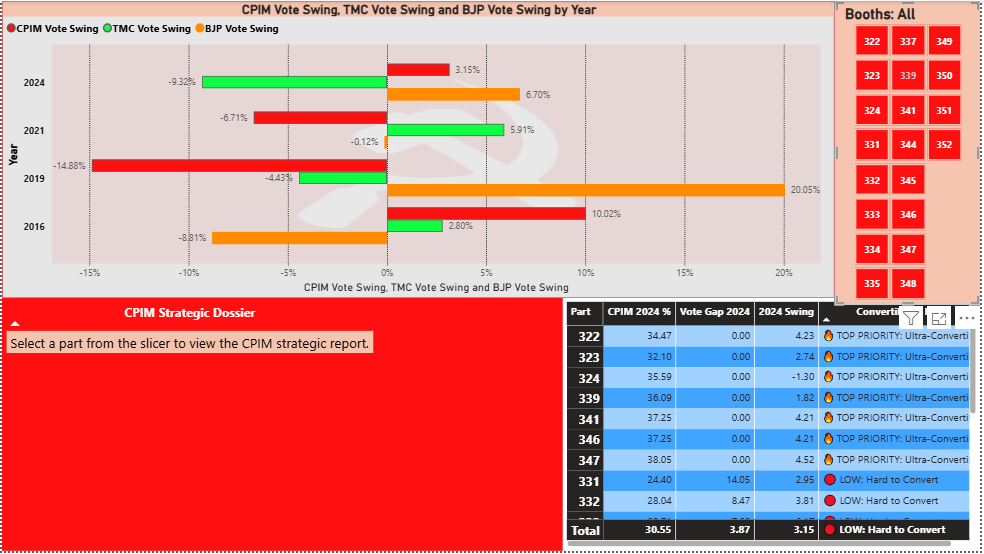

The page's visual inventory and layout, read from the dashboard file:
{"tool":"powerbi","page":{"name":"Page 2","canvas":[1280,720],"ordinal":1},"visuals":[{"type":"slicer","fields":{"Values":["Sheet1.Part"]},"box":[1090.5,0,189.8,398],"z":0},{"type":"clusteredBarChart","fields":{"Y":["Sheet1.CPIM Vote Swing","Sheet1.TMC Vote Swing","Sheet1.BJP Vote Swing"],"Category":["Sheet1.Year"]},"box":[0,0,1090.5,388.8],"z":1000},{"type":"tableEx","fields":{"Values":["Sheet1.CPIM Strategic Dossier"]},"box":[0,388.8,734.4,331.2],"z":2000},{"type":"pivotTable","fields":{"Values":["Sheet1.CPIM 2024 %","Sheet1.Vote Gap 2024","Sheet1.2024 Swing","Sheet1.Convertibility Rank"],"Rows":["Sheet1.Part"]},"box":[734.4,388.8,545.9,331.2],"z":3000}]}

Visuals, with their boxes in screenshot pixels (x1, y1, x2, y2), scaled from the page's 1280x720 canvas onto the 984x554 screenshot:
slicer - Sheet1.Part: x1=838 y1=0 x2=983 y2=306
clusteredBarChart - Sheet1.CPIM Vote Swing x Sheet1.TMC Vote Swing: x1=0 y1=0 x2=838 y2=299
tableEx - Sheet1.CPIM Strategic Dossier: x1=0 y1=299 x2=565 y2=553
pivotTable - Sheet1.CPIM 2024 % x Sheet1.Vote Gap 2024: x1=565 y1=299 x2=983 y2=553
